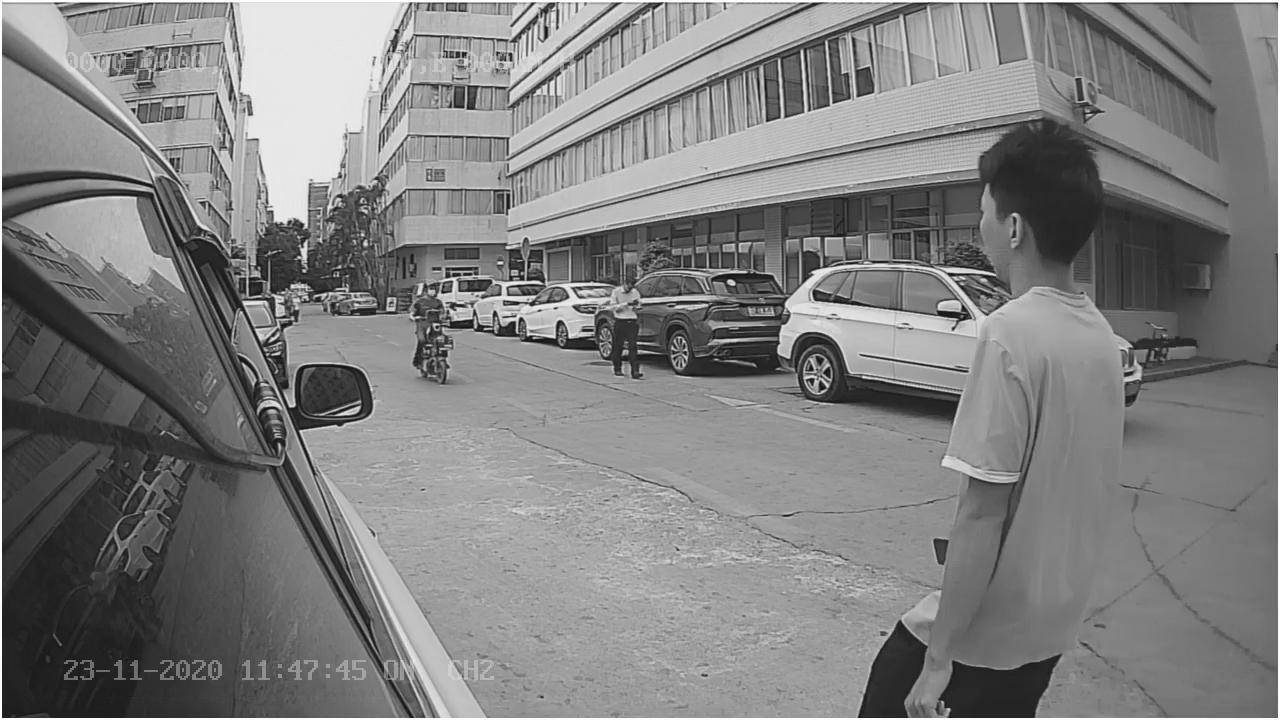person: (924, 101, 1127, 602)
